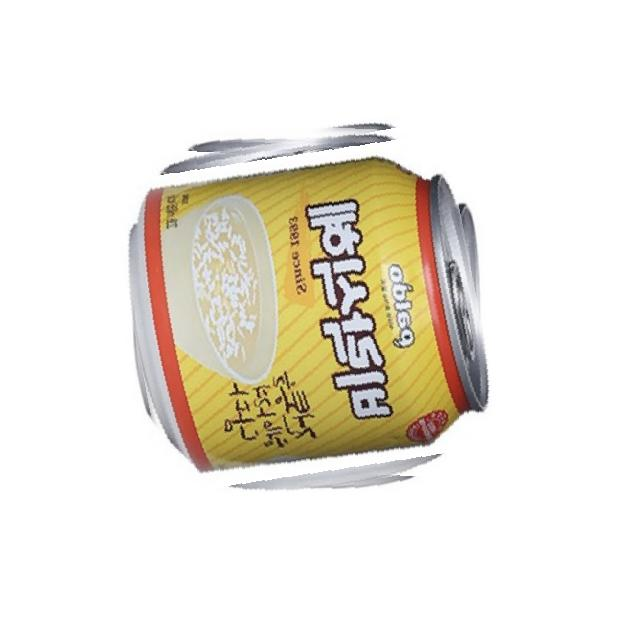recyclable: (118, 118, 493, 493)
